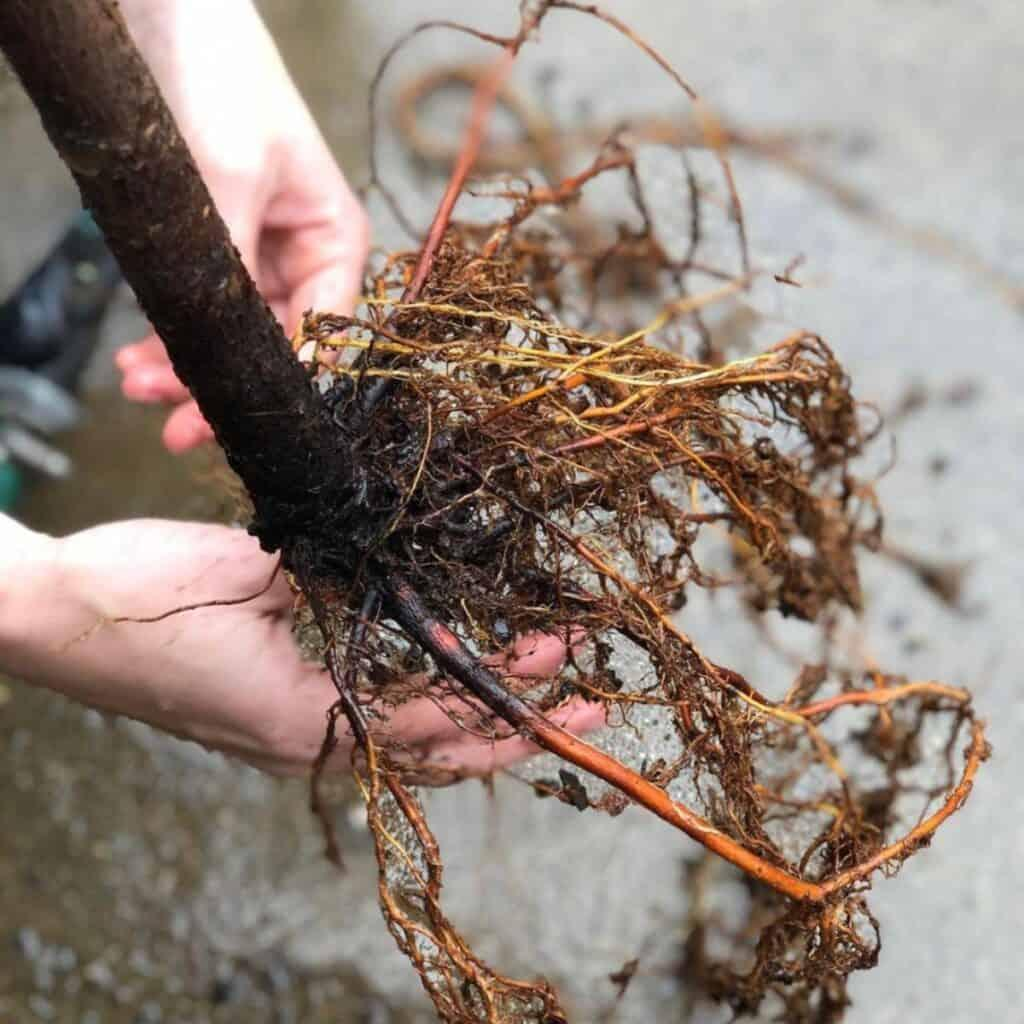root_rot: (155, 0, 965, 1024)
